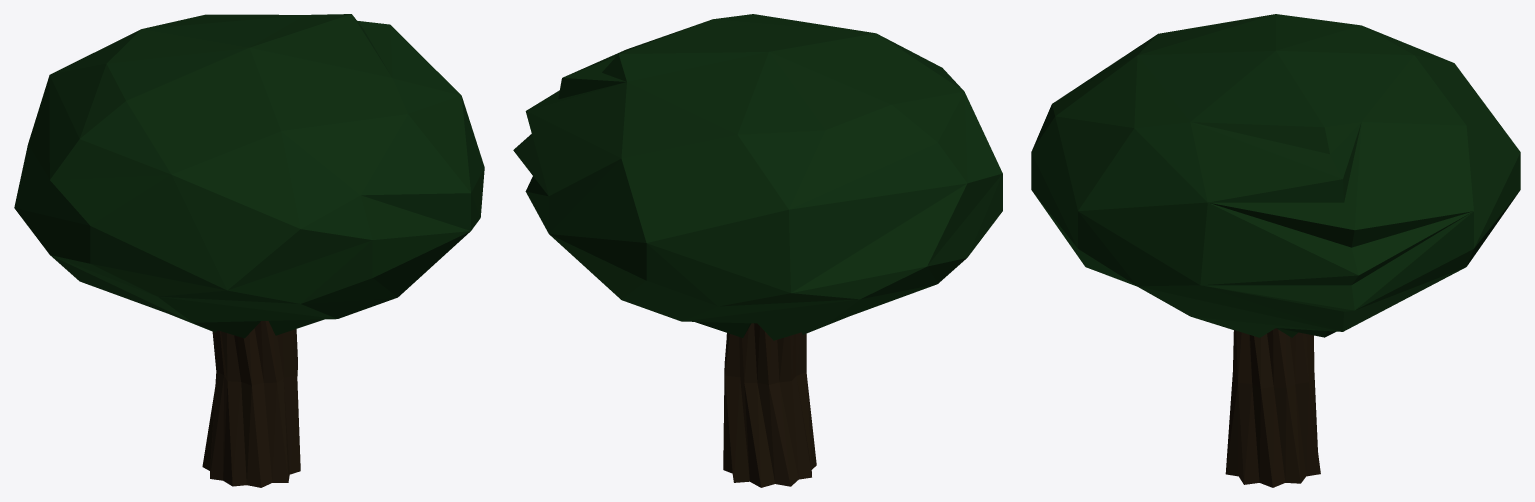
File: ShortFatTree_DarkGreen.fbx
3 renders of one model, left to right at view 1: azimuth 30°, elevation 25°; view 2: azimuth 150°, elevation 25°; view 3: azimuth 270°, elevation 25°, orthographic.
Visible parts, largest first — view 1: Trees:pSphere3, Trees:pCylinder3; view 2: Trees:pSphere3, Trees:pCylinder3; view 3: Trees:pSphere3, Trees:pCylinder3.
Part boxes in pixels (<box>): Trees:pSphere3: <box>14,14,484,338</box>; Trees:pCylinder3: <box>202,321,300,487</box>; Trees:pSphere3: <box>513,14,1002,340</box>; Trees:pCylinder3: <box>723,323,816,487</box>; Trees:pSphere3: <box>1031,14,1520,337</box>; Trees:pCylinder3: <box>1225,328,1320,487</box>.
Size of the model in its own units: 0.2629 by 0.2542 by 0.2702.
